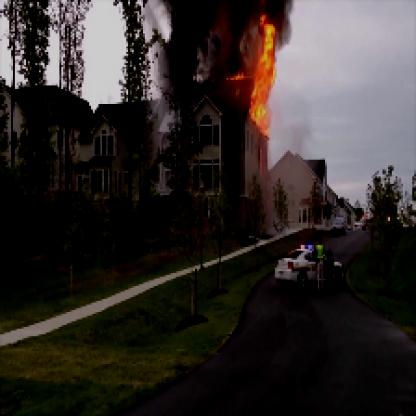Fire: (221, 11, 284, 128)
Smoke: (165, 2, 286, 106)
